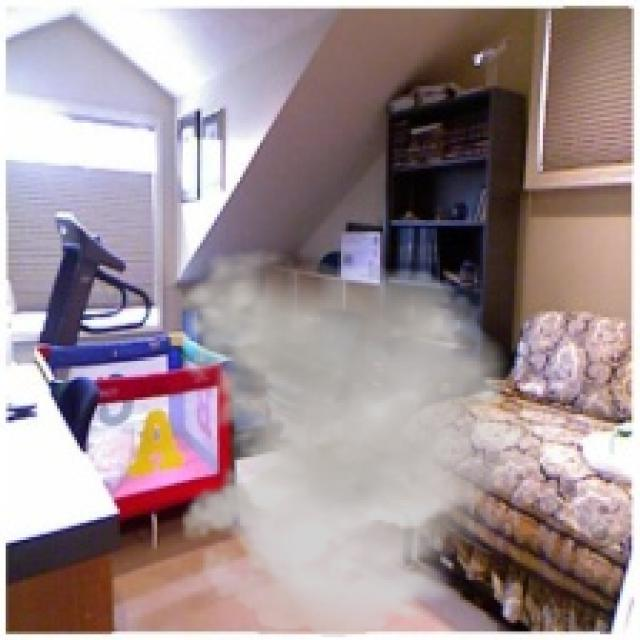smoke: (166, 249, 560, 637)
